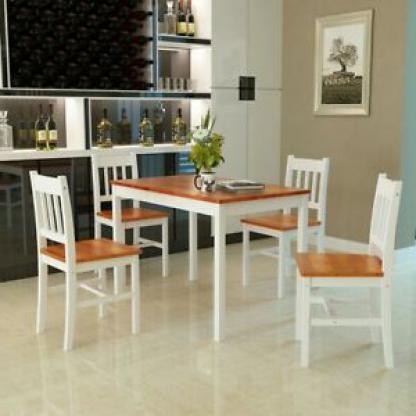chair: (295, 173, 412, 366), (19, 172, 137, 344), (82, 147, 172, 278), (240, 145, 327, 269)
table: (102, 175, 322, 350), (0, 142, 187, 266)
